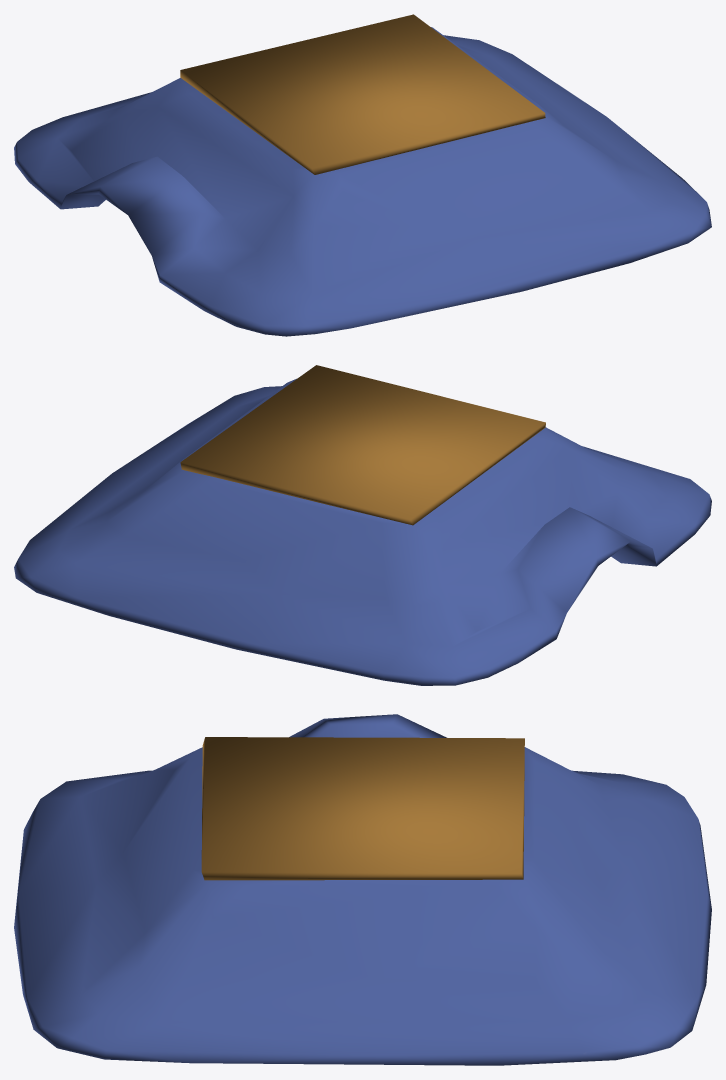
Rendered from kotatu.obj.
3 renders of one model, top to bottom at view 1: azimuth 30°, elevation 25°; view 2: azimuth 150°, elevation 25°; view 3: azimuth 270°, elevation 25°, orthographic. The views are drawn at different scales.
Parts seen in each view (by area): view 1: huton; view 2: huton; view 3: huton.
Part boxes in pixels (x1,y1,x2,y2): huton: (14,14,711,336); huton: (14,365,711,685); huton: (14,714,711,1065).
Size of the model in its own units: 81.42 by 15.21 by 82.28.
